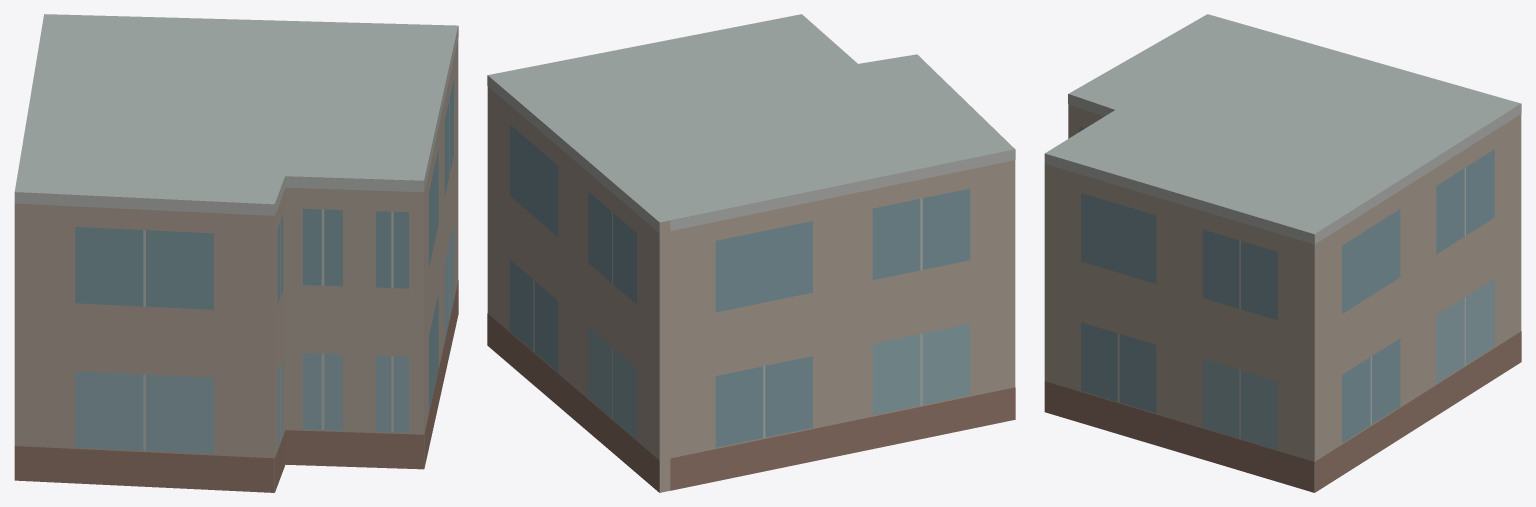
File: survey-upis-32564178.glb
The picture shows the model from 3 angles, left to right: view 1: azimuth 30°, elevation 25°; view 2: azimuth 150°, elevation 25°; view 3: azimuth 270°, elevation 25°; orthographic projection. The views are drawn at different scales.
Visible parts, largest first — view 1: survey-upis-32564178.tmp; view 2: survey-upis-32564178.tmp; view 3: survey-upis-32564178.tmp.
Boxes of the visible parts, left/top/right/bottom form: survey-upis-32564178.tmp: left=14, top=14, right=458, bottom=492; survey-upis-32564178.tmp: left=487, top=14, right=1015, bottom=492; survey-upis-32564178.tmp: left=1044, top=14, right=1521, bottom=492.
Size of the model in its own units: 11.15 by 6.1 by 10.2.
